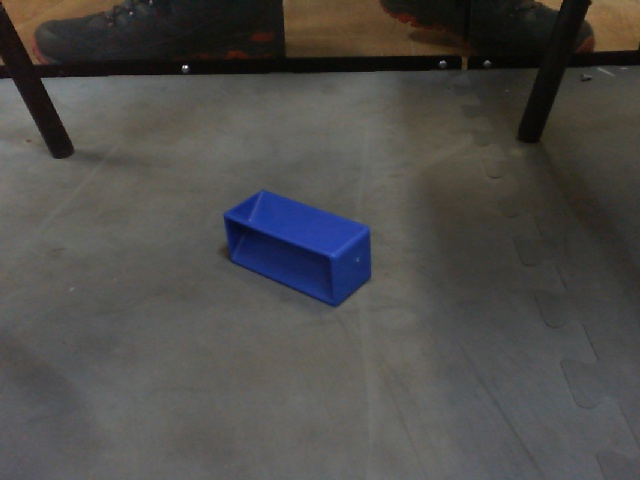BlueSample: (221, 186, 373, 310)
